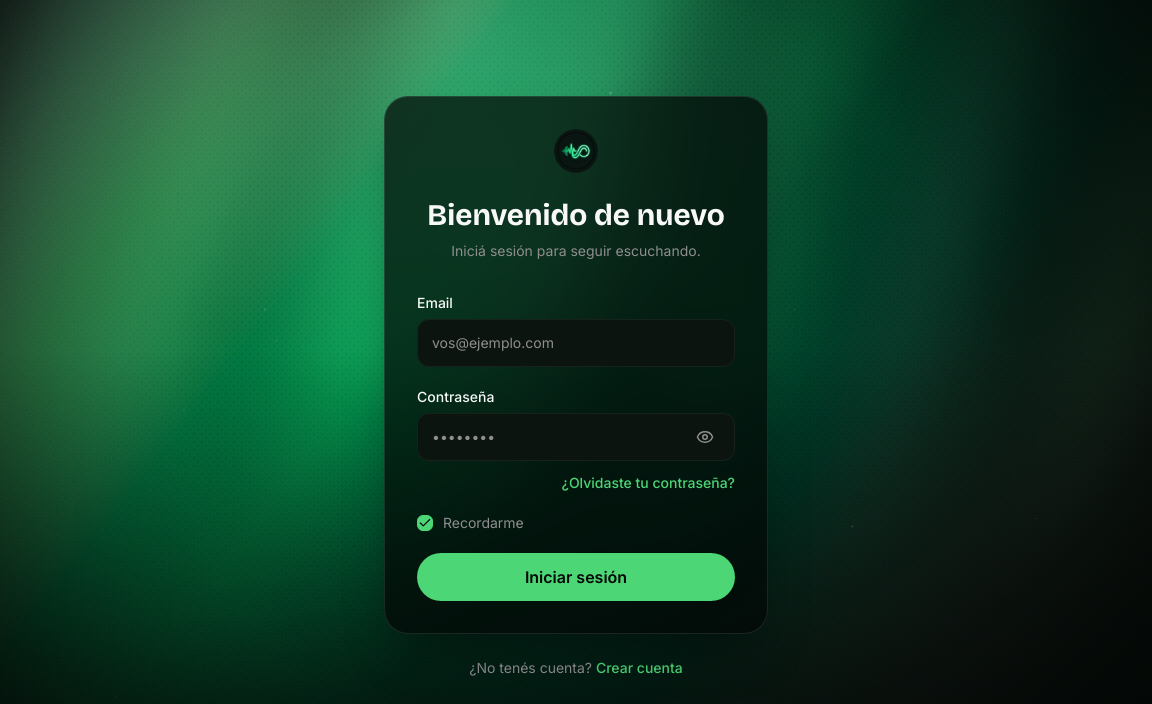
LoginPage: ¿olvidaste tu contraseña? › con email pide el link y muestra el aviso persistente
Type "user@example.com" into the field labelled "Email" at (576, 343), box [418,333,734,353]
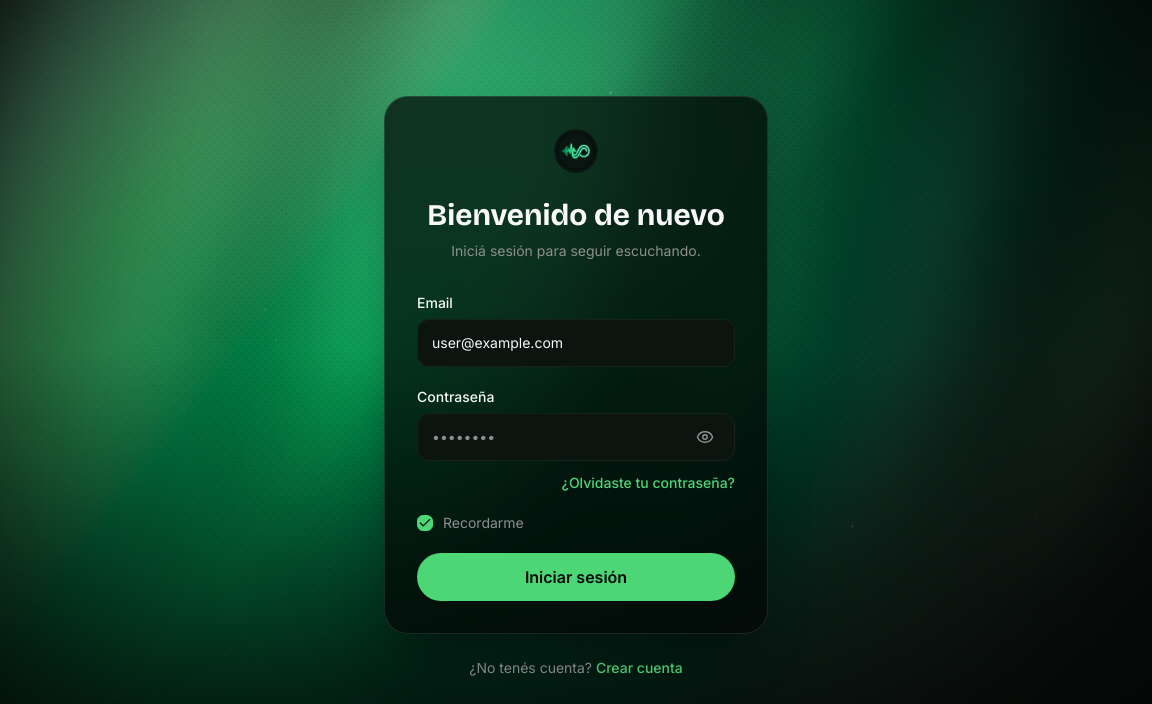
Click the button "¿Olvidaste tu contraseña?" at (648, 483), box [562,473,735,493]
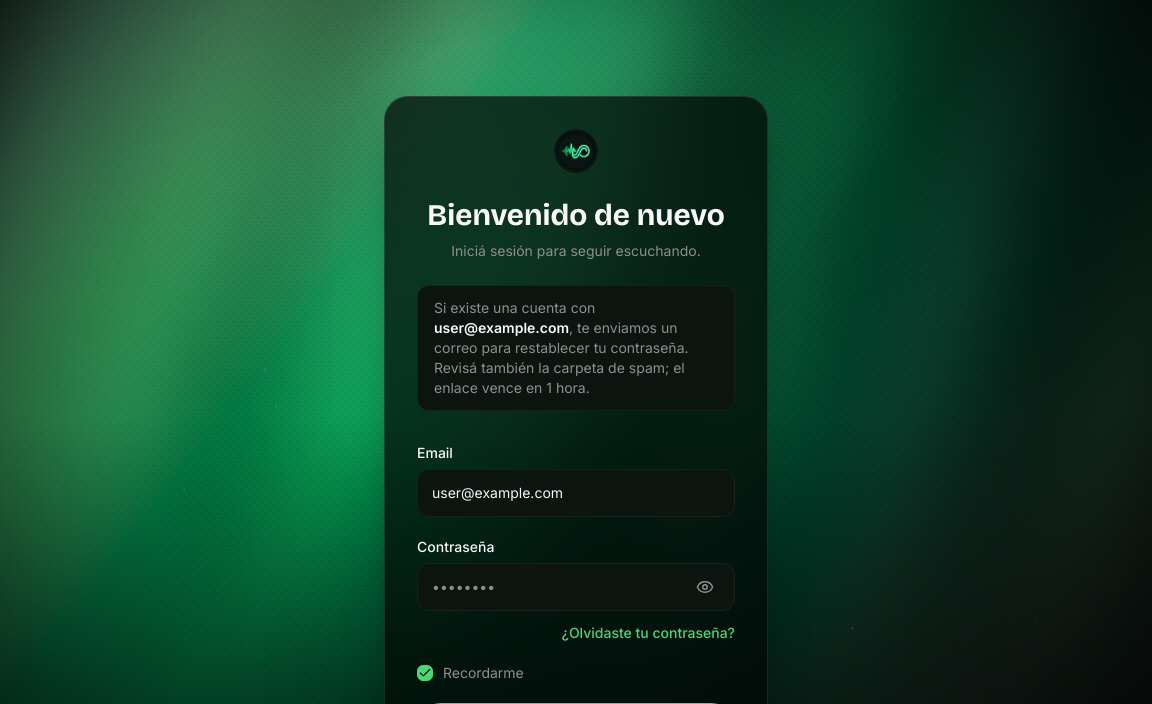
expect the message shows "user@example.com": met, box [434,319,569,336]
expect the message shows "vence en 1 hora": met, box [434,319,688,396]
